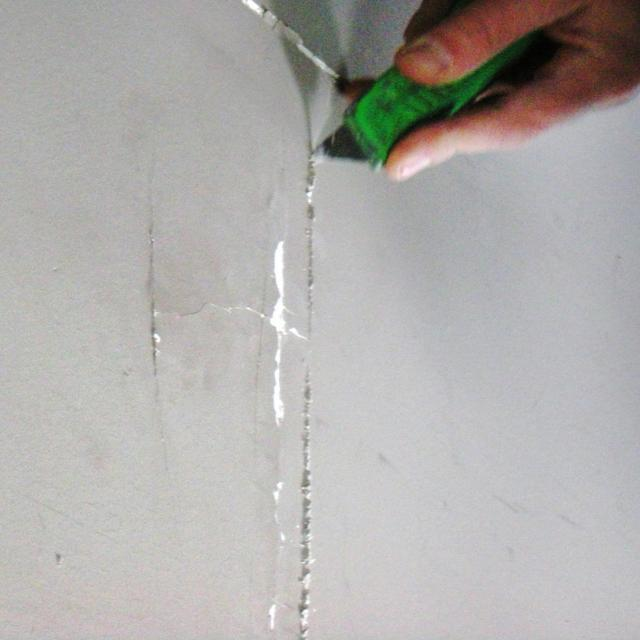leak: (233, 0, 341, 82), (302, 108, 315, 640), (166, 290, 300, 335), (143, 150, 162, 385)
